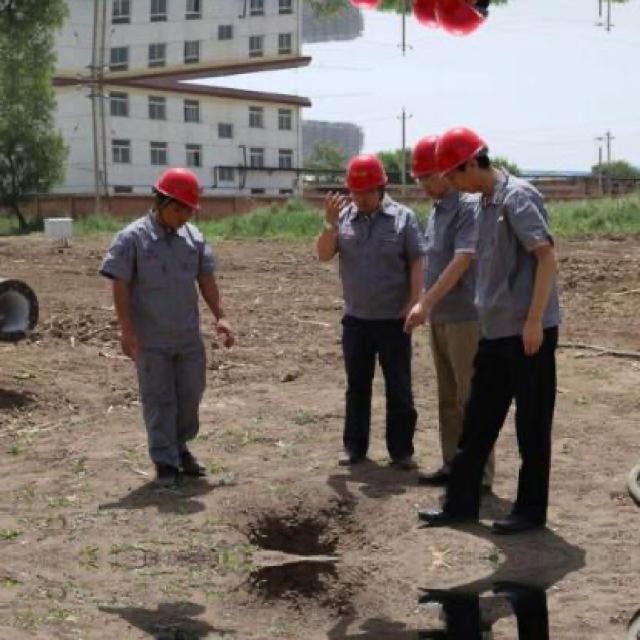con casco: (381, 122, 495, 203), (325, 134, 422, 222)
